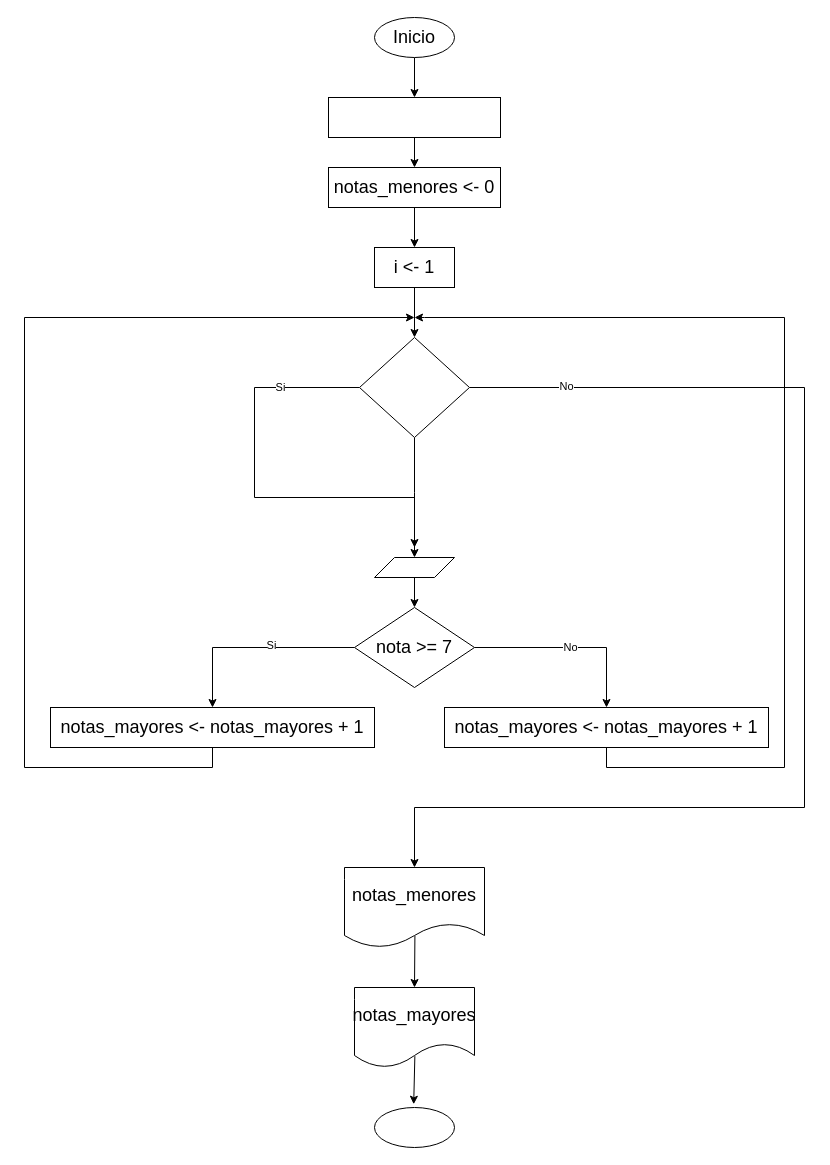
Image size: 830x1165. Some labels were removed from this diagram. Each missing label, with the box of its shape:
Fin: (374, 1106, 454, 1148)
i <= 10: (358, 336, 470, 438)
nota: (374, 556, 454, 578)
notas_mayores <- 0: (328, 96, 500, 138)
